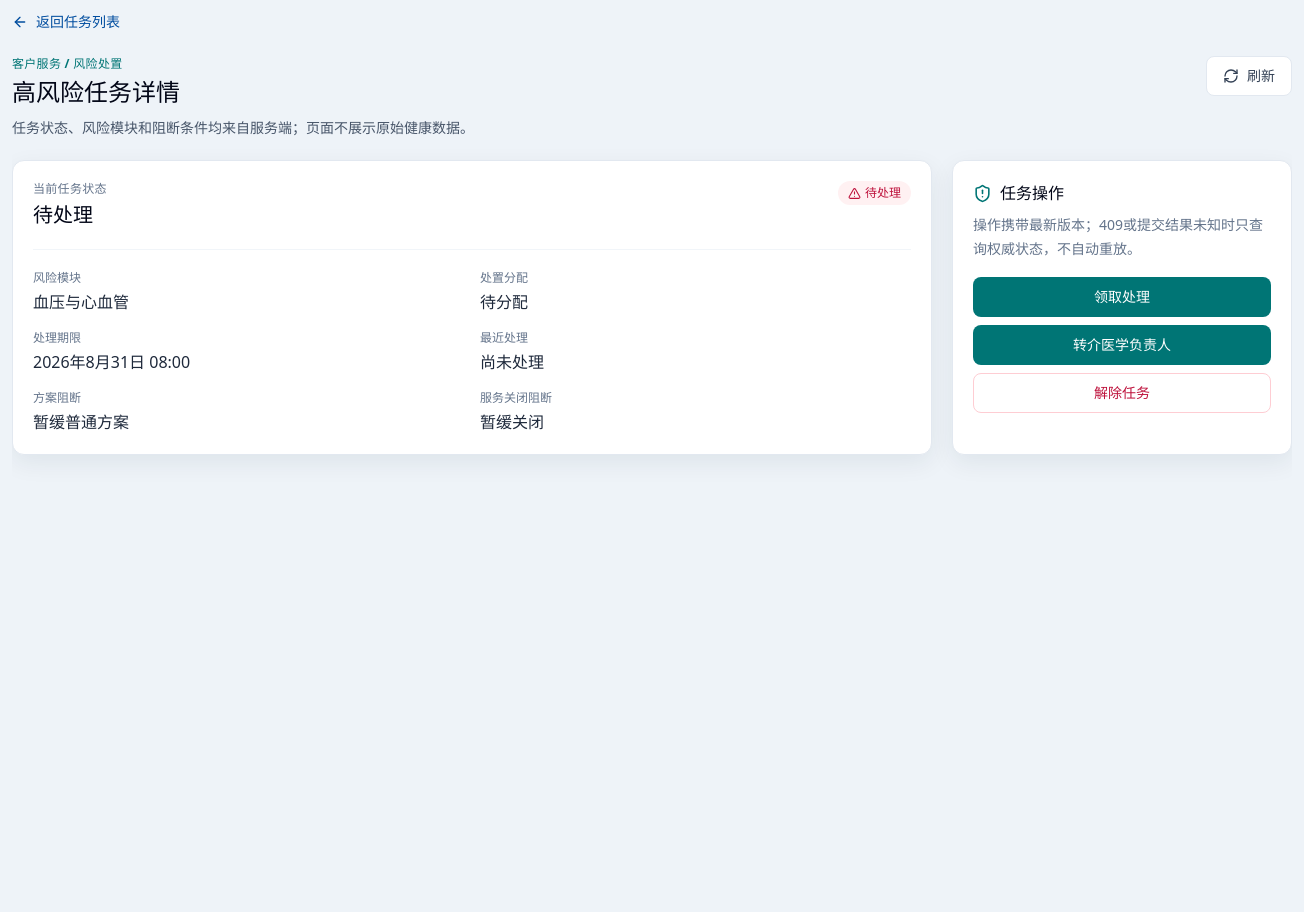
Scenario: 一期切片5机构评估摘要与高风险任务 › 转介必须由操作人选择联系结果和结构化建议
Click the button "转介医学负责人": click(1122, 345) left=973, top=325, right=1271, bottom=365
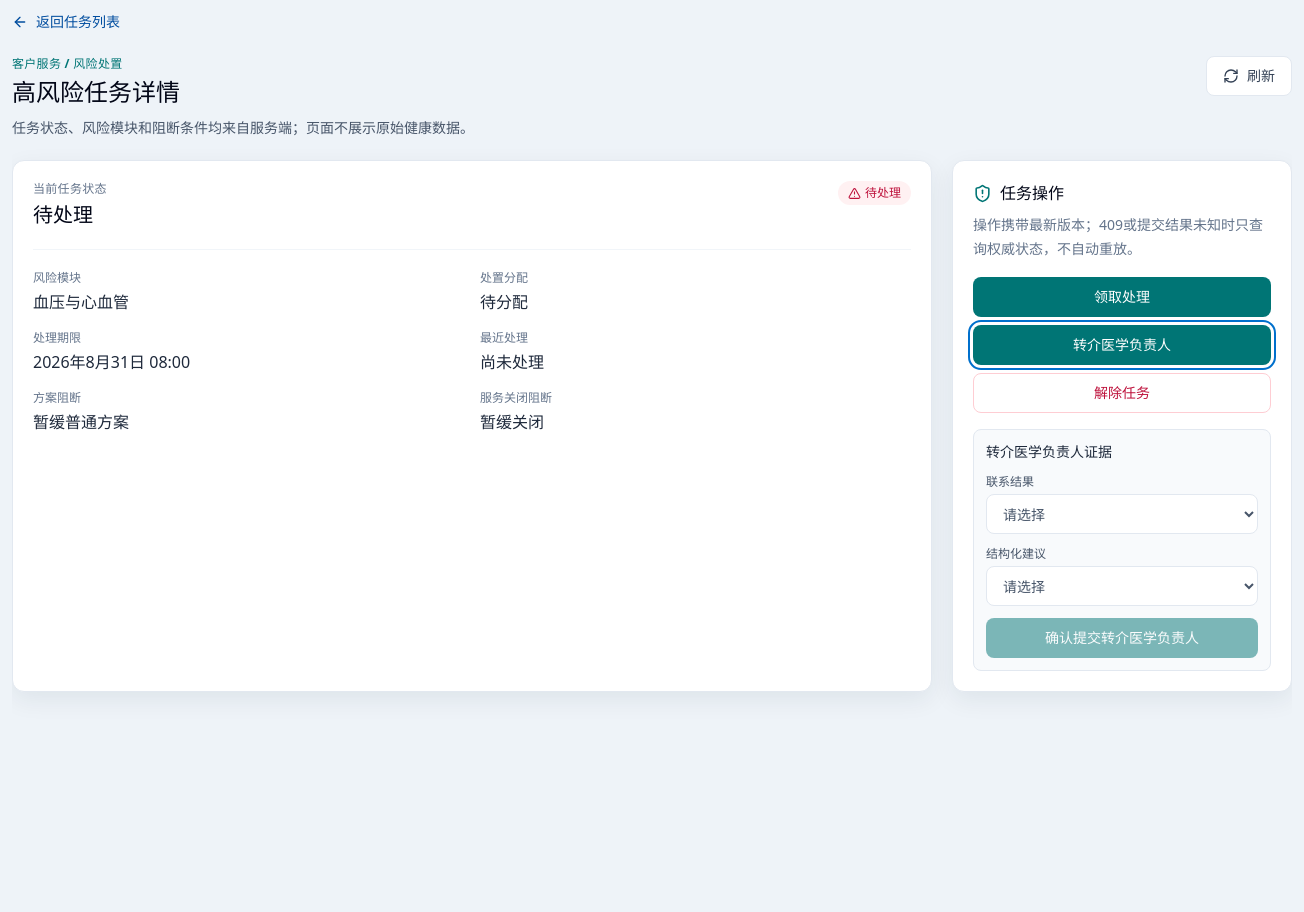
Check: the button "确认提交转介医学负责人" is disabled, box left=986, top=618, right=1258, bottom=658
Select "已联系" in the dropdown labelled "联系结果": (1122, 514) left=986, top=494, right=1258, bottom=534
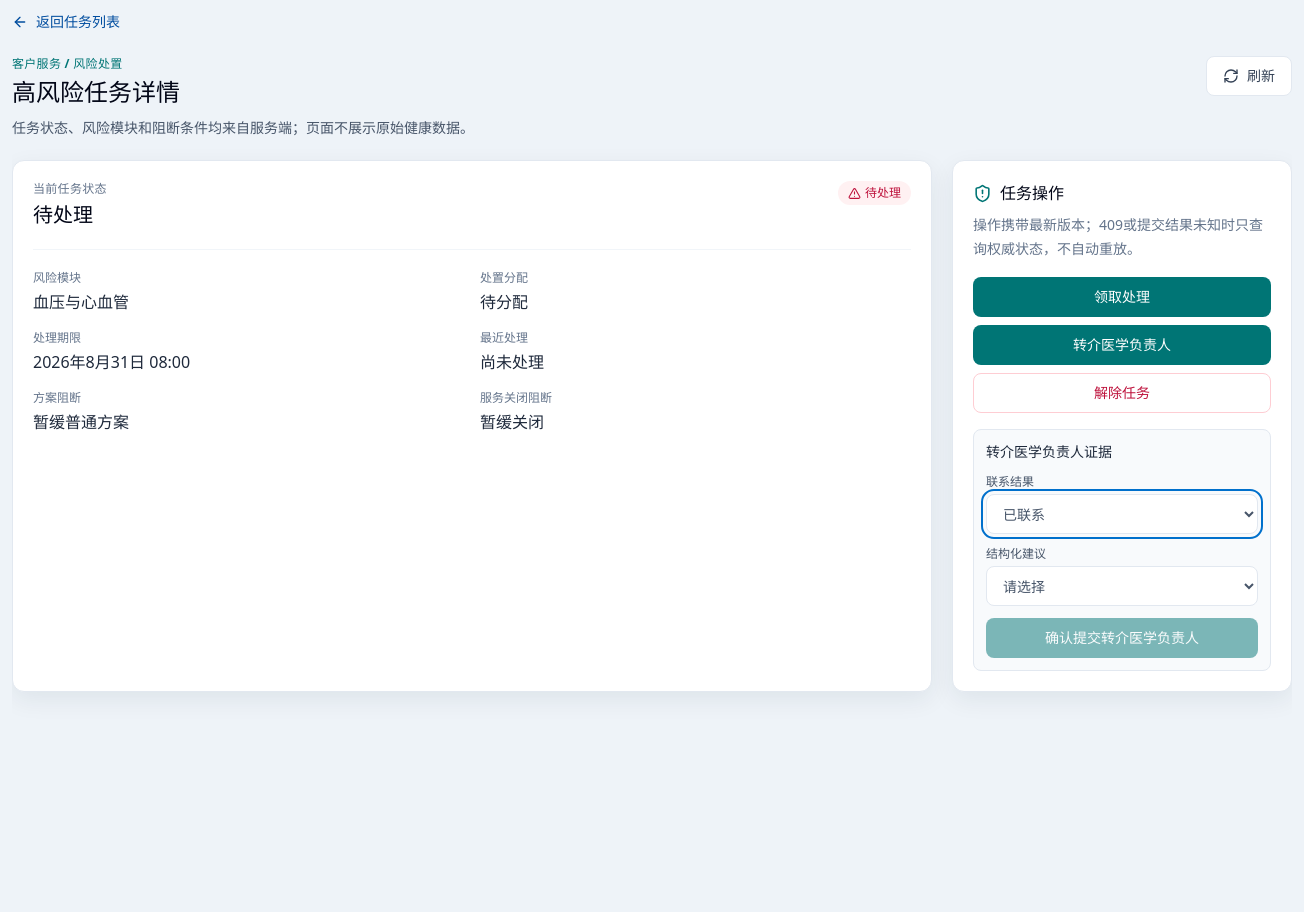
Select "提示联系医学负责人" in the dropdown labelled "结构化建议": (1122, 586) left=986, top=566, right=1258, bottom=606
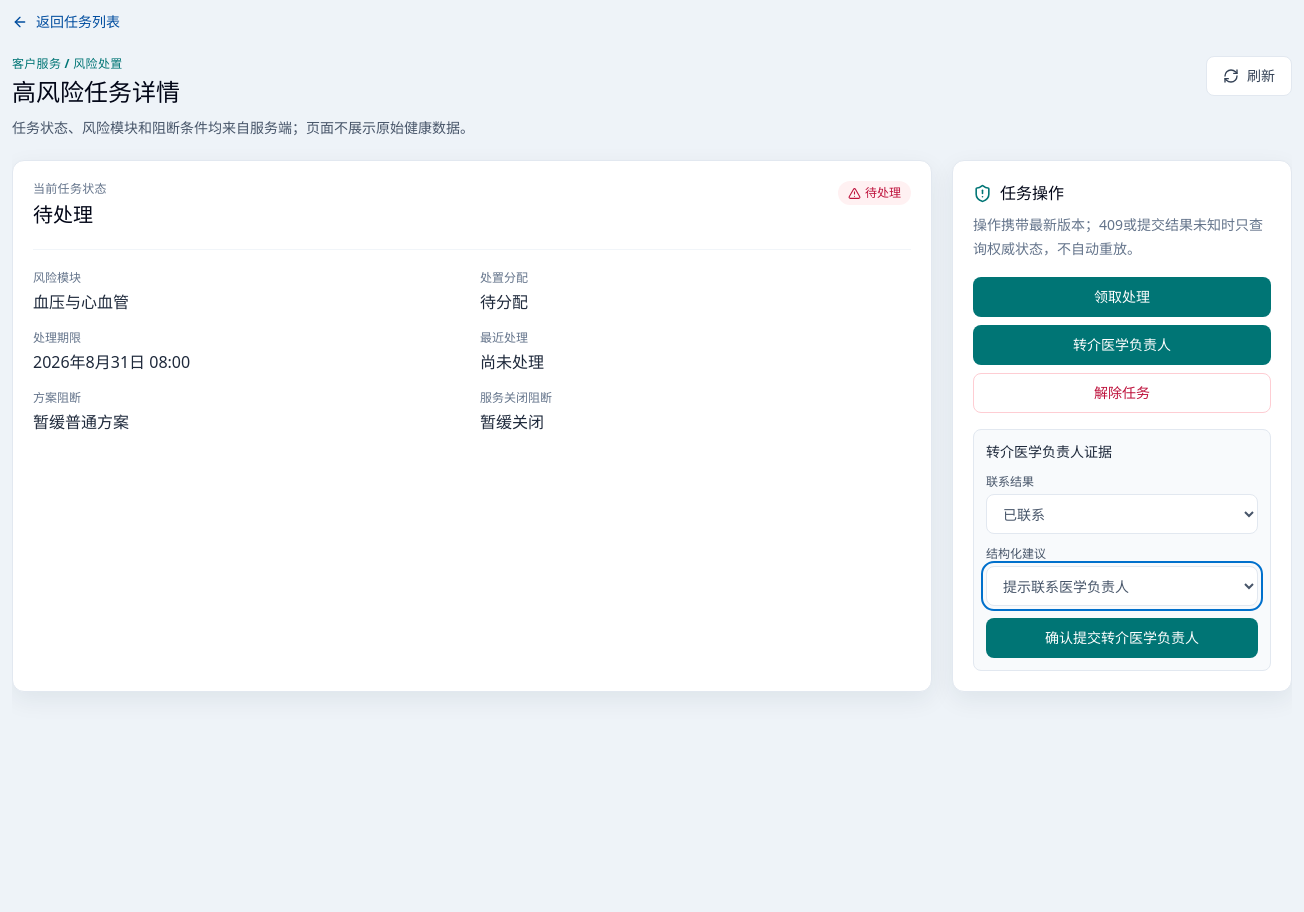
Click the button "确认提交转介医学负责人": click(1122, 638) left=986, top=618, right=1258, bottom=658
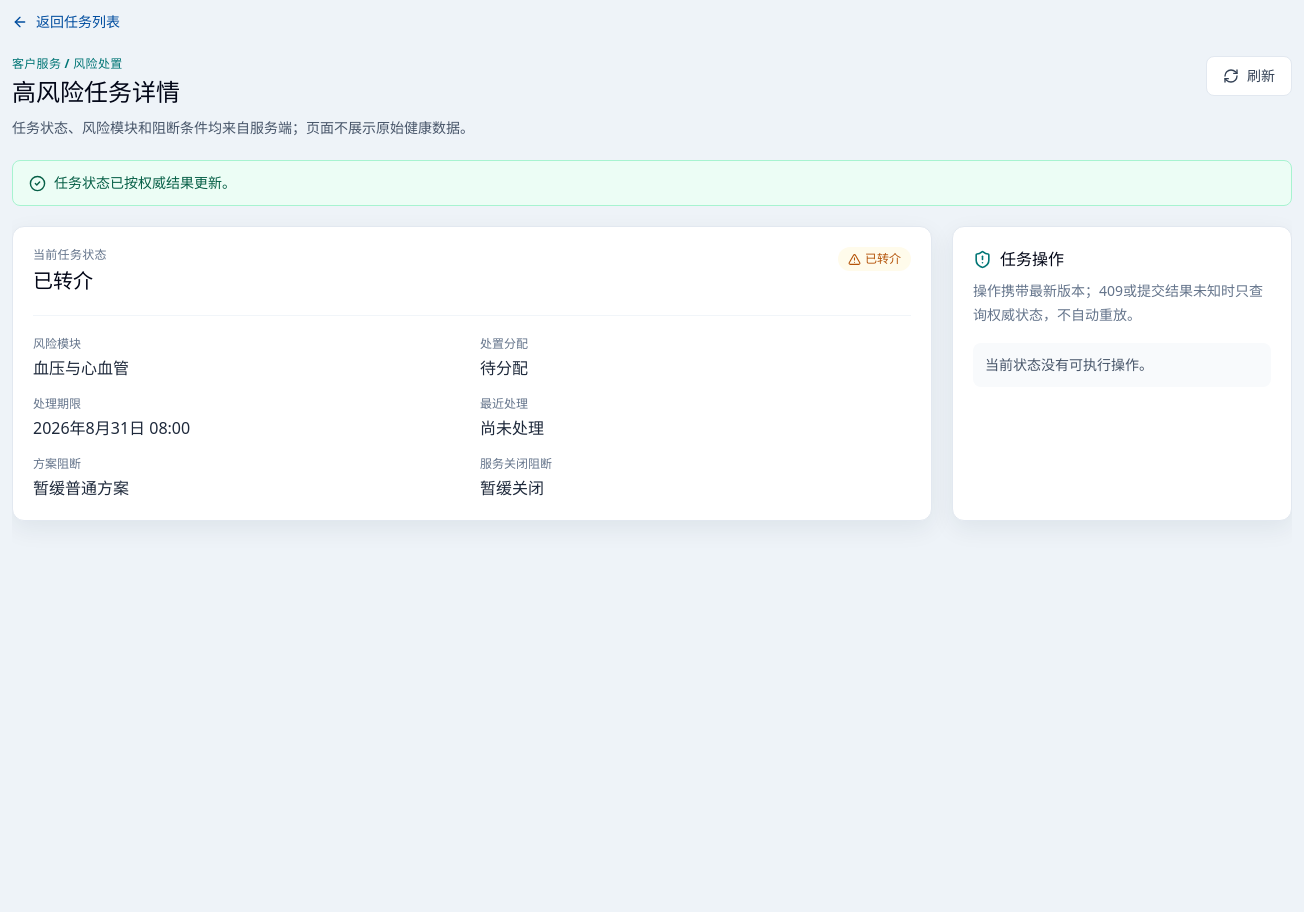
Check: the heading "已转介" is shown, box left=33, top=267, right=93, bottom=294
